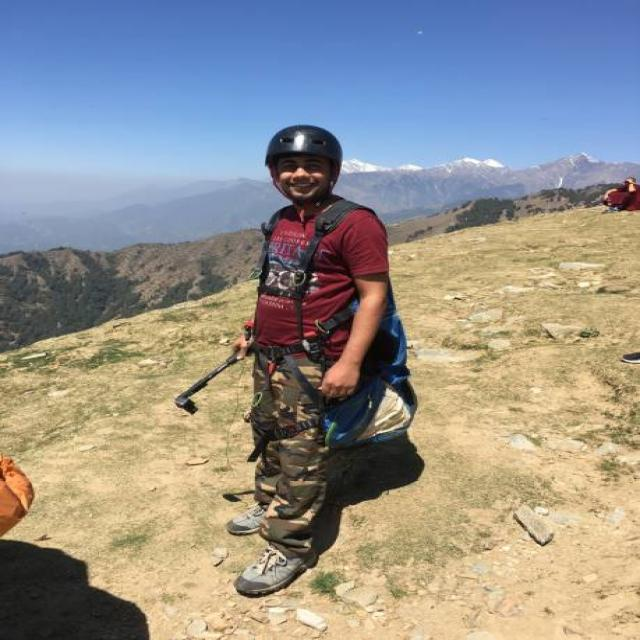not_ride_motorcycle: (156, 86, 439, 614)
with-helmet: (260, 115, 356, 212)
